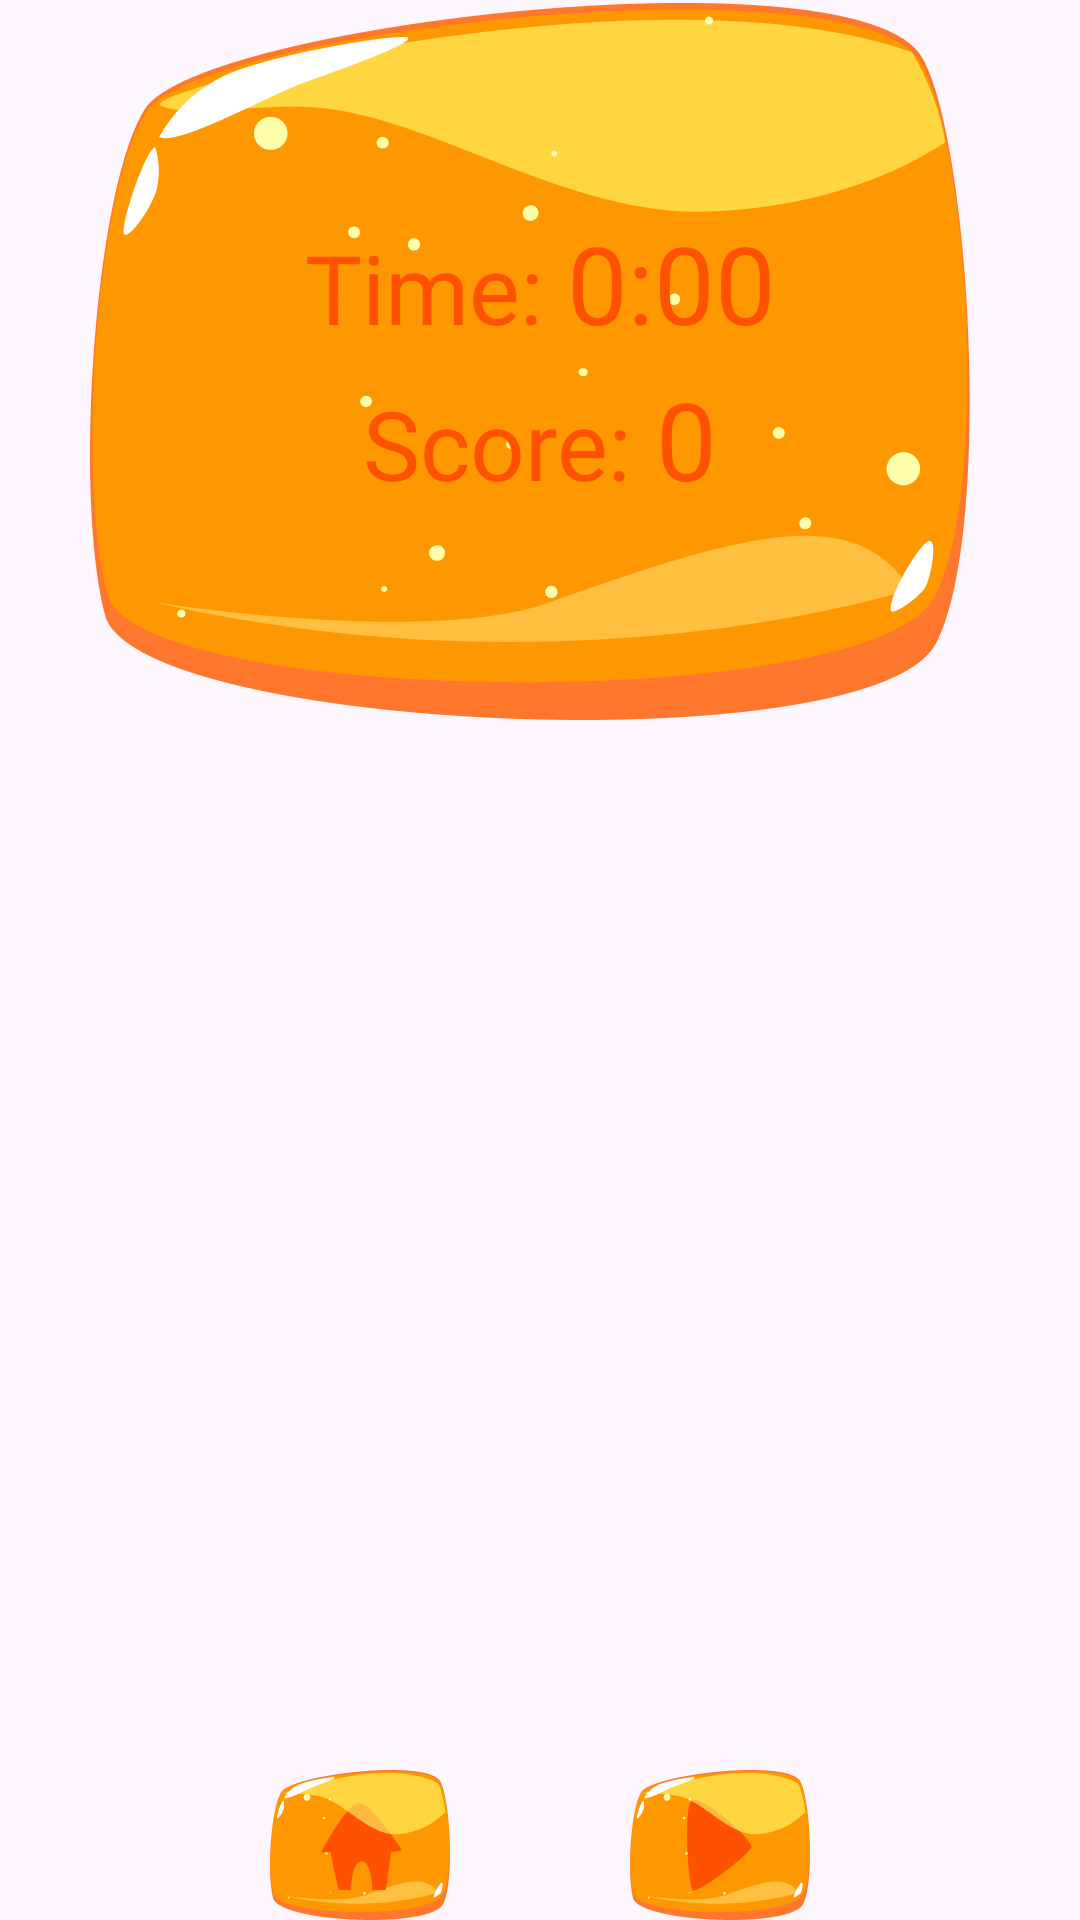

Point at icon controls on the screen. Image size 1080w x 1920h, points as point (x, y).
home sel: point (360, 1845)
play sel: point (720, 1845)
